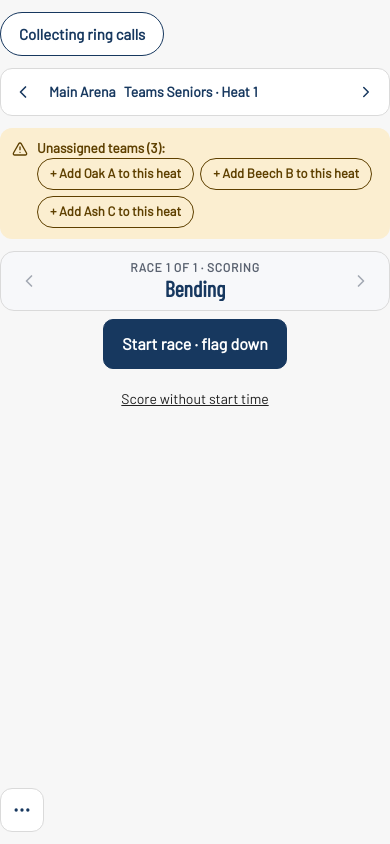
Test: SessionPage › links the arena crew sheet from race tools and puts the duty board in the organiser tools
The image size is (390, 844).
What coordinates should you click on to do the following:
click the button "Score without start time"
I would click on:
 (195, 399)
Its box is [12,377,378,421].
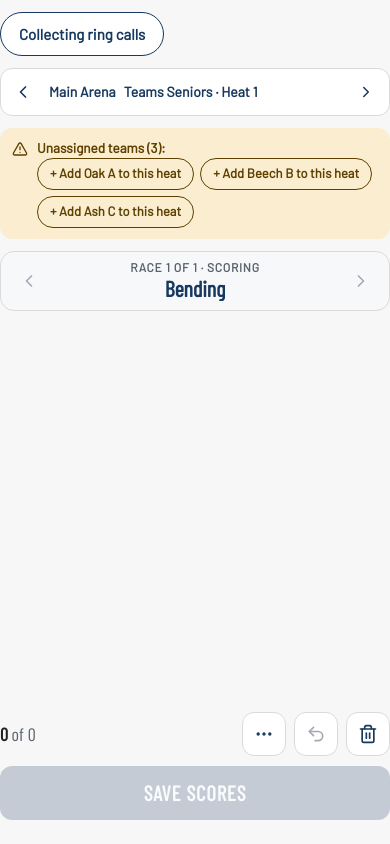
What coordinates should you click on to do the following:
click the button named "Race tools"
I would click on:
 (264, 734)
Its box is [242,712,286,756].
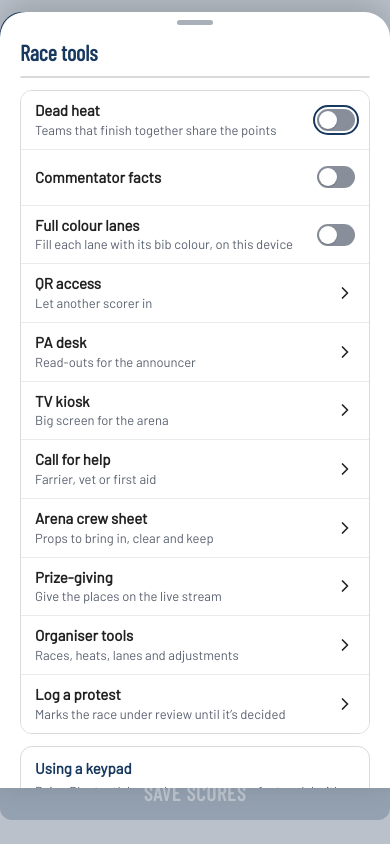
Expected: the text "Arena crew sheet" is shown, [35,509,148,527]
Expected: the text "Props to bring in, clear and keep" is shown, [35,530,214,546]
What coordinates should you click on to do the following:
click the button "Organiser tools Races, heats, lanes and adjustments"
I would click on:
 (195, 644)
Its box is [21,615,369,674].
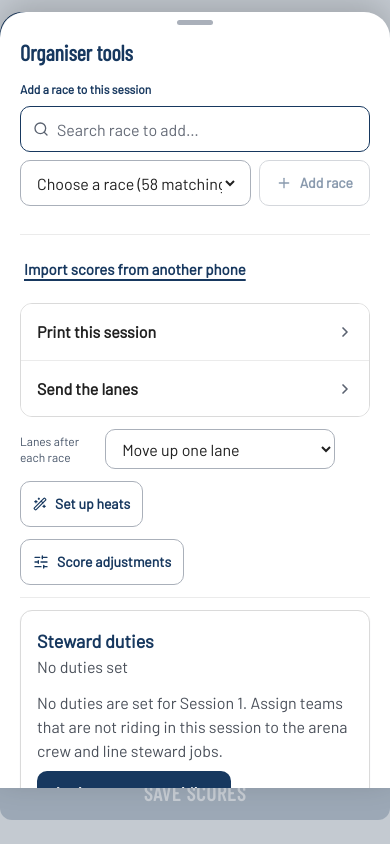
Expected: the text "No duties are set for" is shown, [37,693,180,712]
